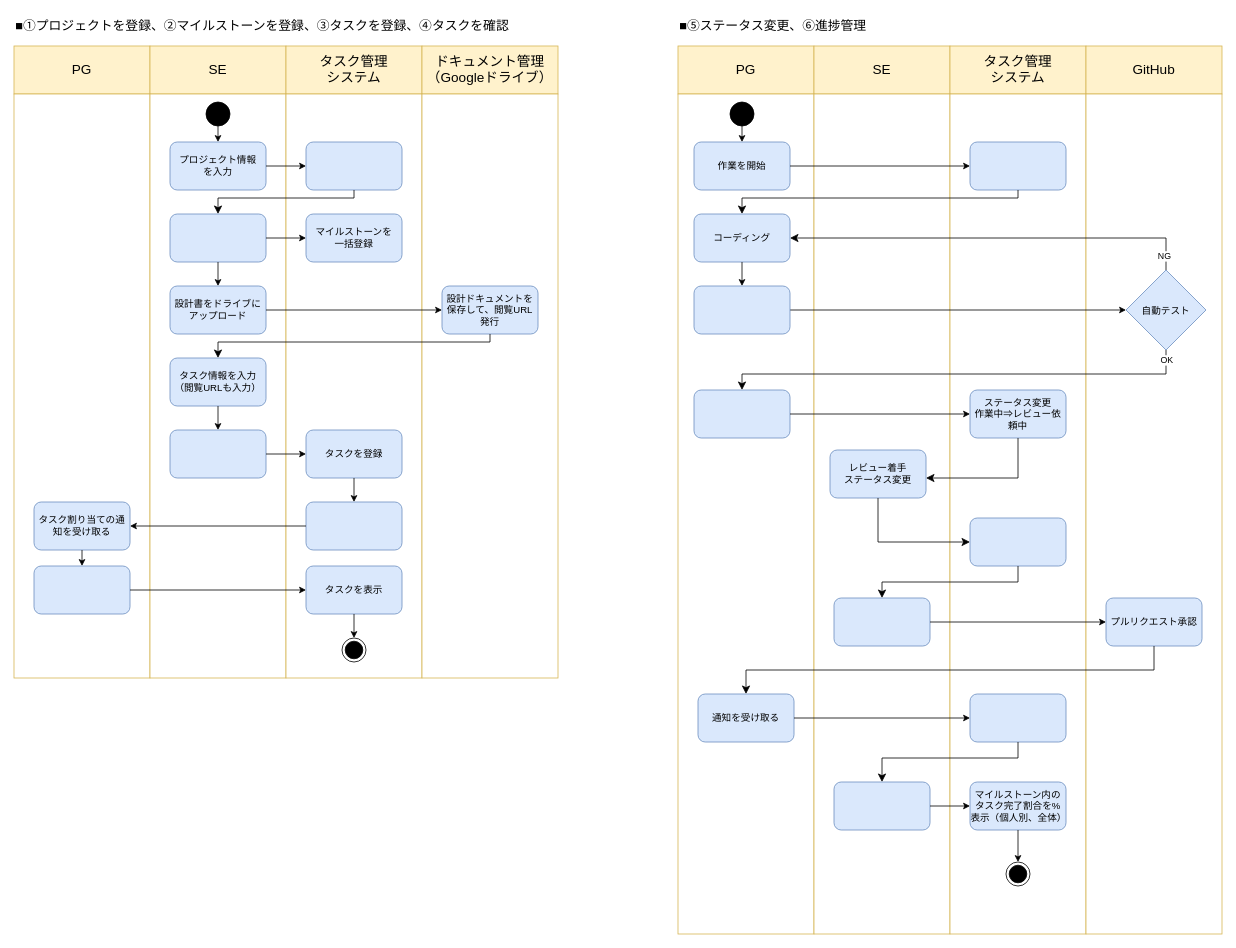
The diagram is 1236 pixels wide and 948 high, and some of its shapes have lost their labels. Here are the shapes that lost their labels. From the top down, the centre of each, then its label:
At pixel 353 165: "プロジェクトを登録".
At pixel 1017 165: "ステータス変更 未着手⇒作業中".
At pixel 217 237: "マイルストーン を入力 ⇒一括入力".
At pixel 741 309: "GitHubにプッシュ （プルリク作成）".
At pixel 741 413: "SEにレビューを依頼 ステータス変更".
At pixel 217 453: "マイルストーンとタスクを紐づける".
At pixel 353 525: "PGにSlack通知する".
At pixel 1017 541: "ステータス変更 作業中⇒レビュー中".
At pixel 81 589: "タスク詳細のリンクをクリック".
At pixel 881 621: "レビュー完了".
At pixel 1017 717: "ステータス変更 レビュー中⇒完了".
At pixel 881 805: "（任意のタイミング） 進捗をチェック".
